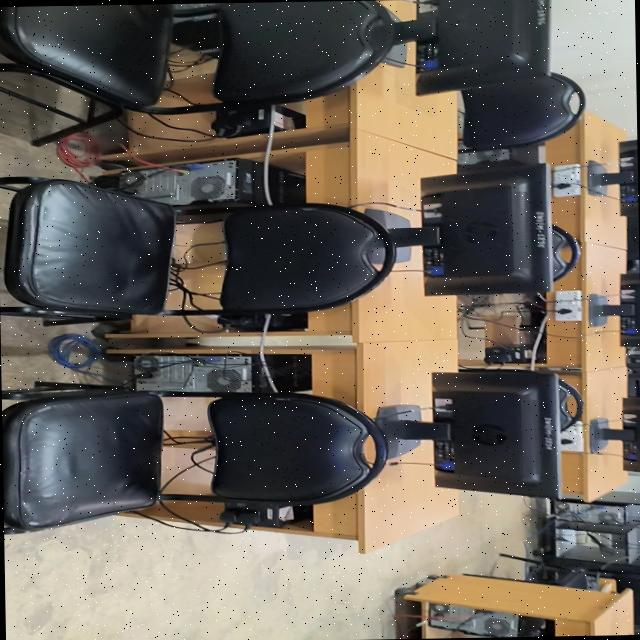Chair: (0, 0, 397, 145), (1, 386, 386, 533), (0, 175, 175, 320), (175, 201, 396, 315), (459, 71, 584, 150), (528, 561, 600, 589), (601, 569, 640, 616), (552, 223, 581, 280)
Cpu: (119, 158, 260, 204), (135, 353, 265, 391), (429, 603, 518, 637), (553, 501, 625, 523)
Monitor: (370, 160, 579, 294), (374, 369, 560, 497), (372, 0, 550, 94), (589, 268, 640, 345), (590, 396, 640, 470), (588, 138, 638, 200)
